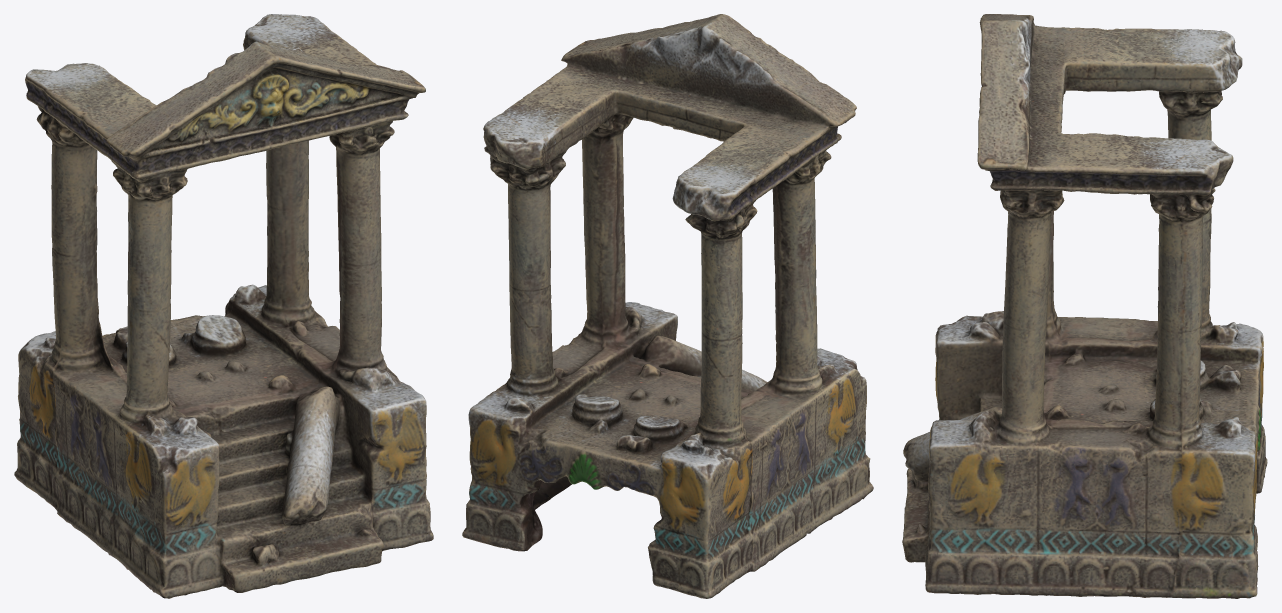
File: temple_ruin_aquarium_decoration_-_photoscan.glb
3 views of the same model, side by side, from view 1: azimuth 30°, elevation 25°; view 2: azimuth 150°, elevation 25°; view 3: azimuth 270°, elevation 25° (orthographic). The views are drawn at different scales.
Parts seen in each view (by area): view 1: Object_2; view 2: Object_2; view 3: Object_2.
Boxes of the visible parts, x1,y1,x2,y2 form: Object_2: [14, 14, 433, 598]; Object_2: [462, 14, 873, 598]; Object_2: [902, 14, 1267, 598].
Bounding box in the file's own units: 0.1224 × 0.1951 × 0.1267.
1 material, 1 textured.
